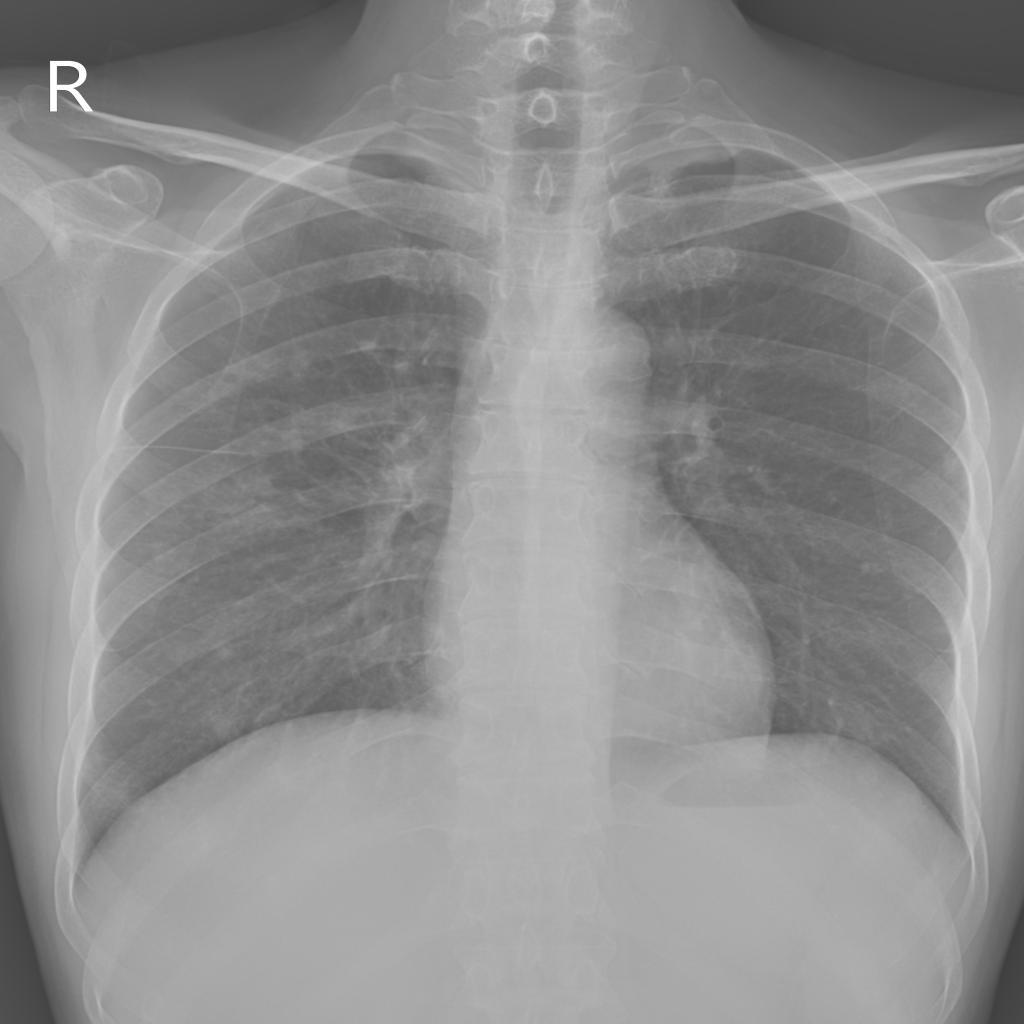Nodule: (200, 465, 260, 516), (862, 564, 887, 578), (944, 455, 960, 476)
